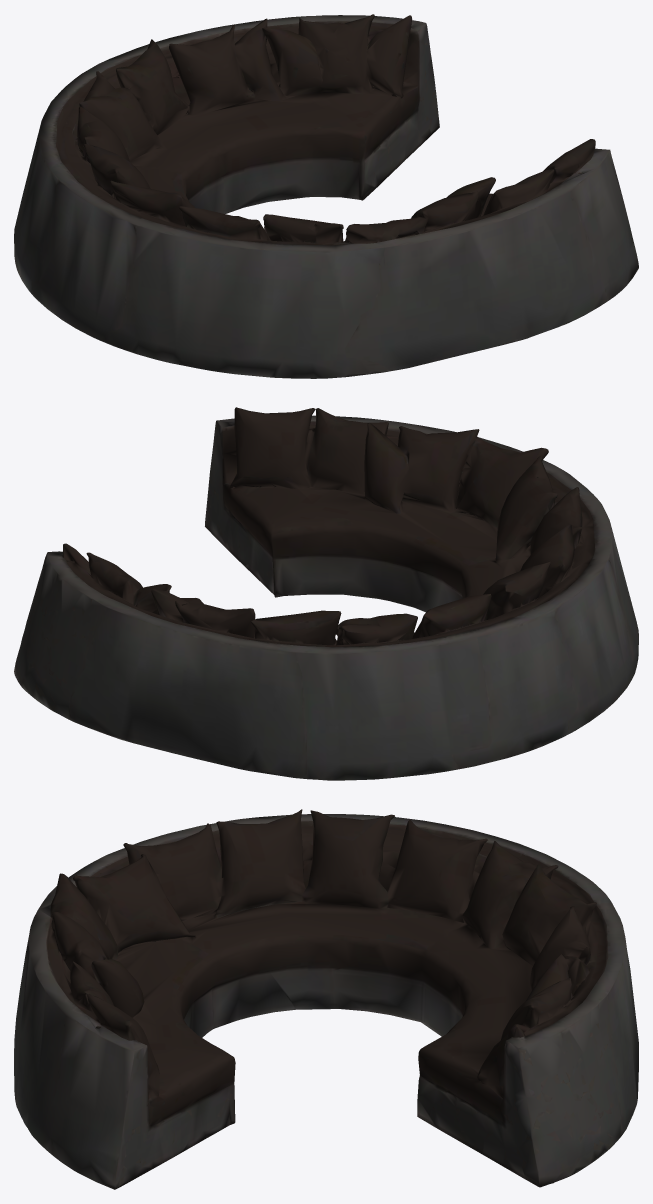
The model's file is 3MjbKN9tP1otXno62g2l4.glb.
3 views of the same model, one above another, from view 1: azimuth 30°, elevation 25°; view 2: azimuth 150°, elevation 25°; view 3: azimuth 270°, elevation 25° (orthographic). The views are drawn at different scales.
Parts seen in each view (by area): view 1: geometry_0; view 2: geometry_0; view 3: geometry_0.
Part boxes in pixels (<box>): geometry_0: <box>14,14,638,378</box>; geometry_0: <box>14,407,638,780</box>; geometry_0: <box>14,809,638,1189</box>.
Size of the model in its own units: 0.971 by 0.2634 by 0.9883.
Materials: 1 (1 with a texture image).
